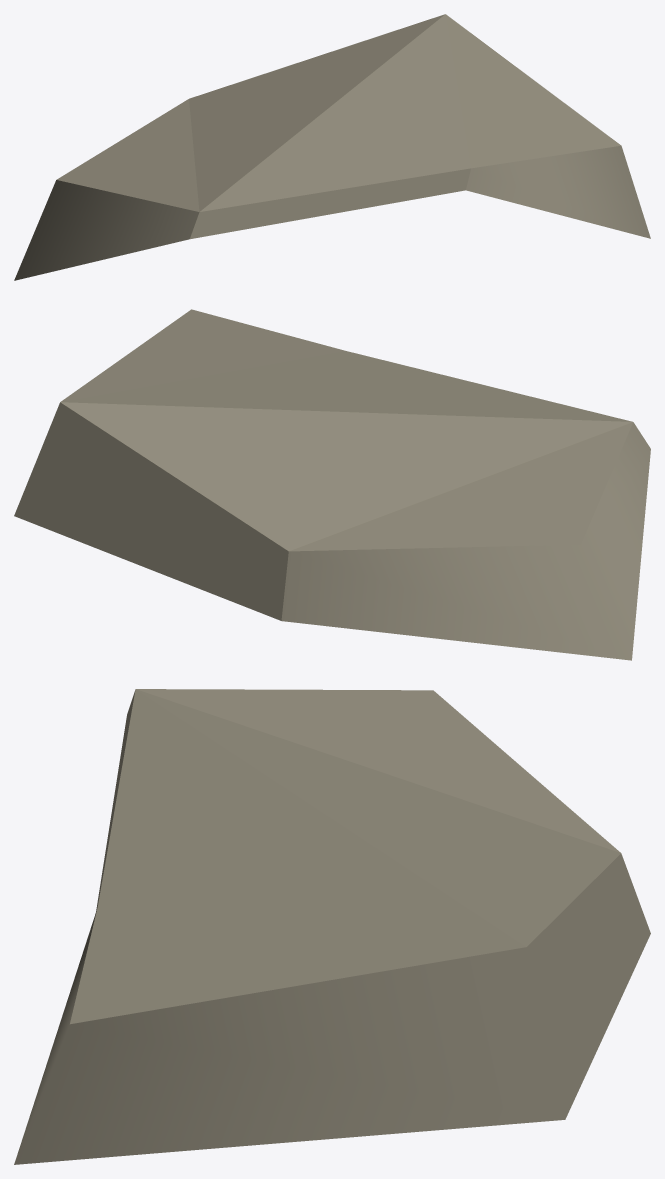
Rendered from Stones_1a.fbx.
The picture shows the model from 3 angles, top to bottom: view 1: azimuth 30°, elevation 25°; view 2: azimuth 150°, elevation 25°; view 3: azimuth 270°, elevation 25°; orthographic projection. The views are drawn at different scales.
Parts seen in each view (by area): view 1: Stones_1a; view 2: Stones_1a; view 3: Stones_1a.
Boxes of the visible parts, x1=… form: Stones_1a: x1=14, y1=14, x2=650, y2=280; Stones_1a: x1=14, y1=309, x2=650, y2=660; Stones_1a: x1=14, y1=689, x2=650, y2=1164.
Size of the model in its own units: 39.22 by 9.79 by 27.09.
